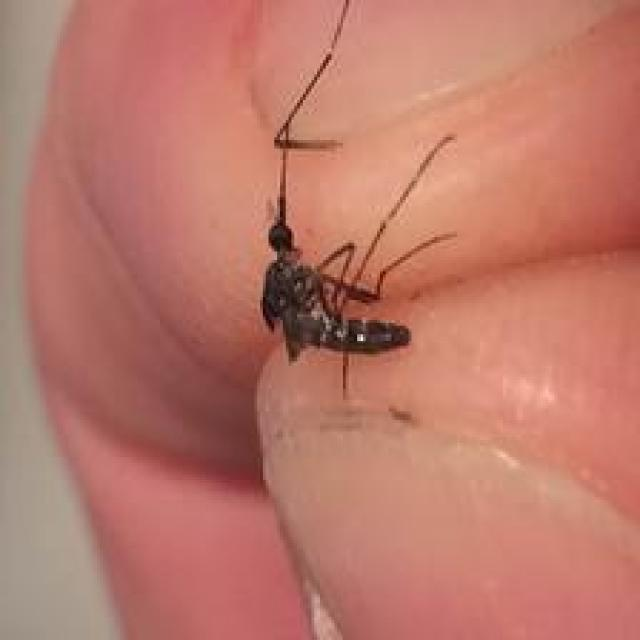Aedes albopictus: (257, 0, 460, 397)
